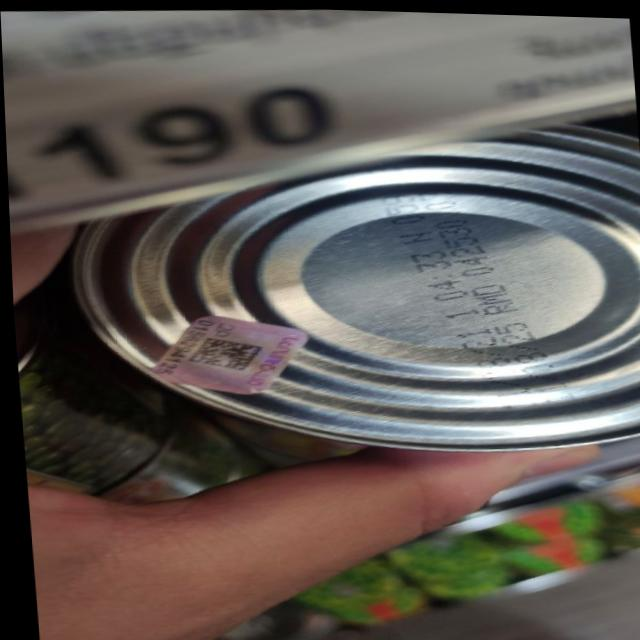datamatrix: (184, 334, 263, 373)
